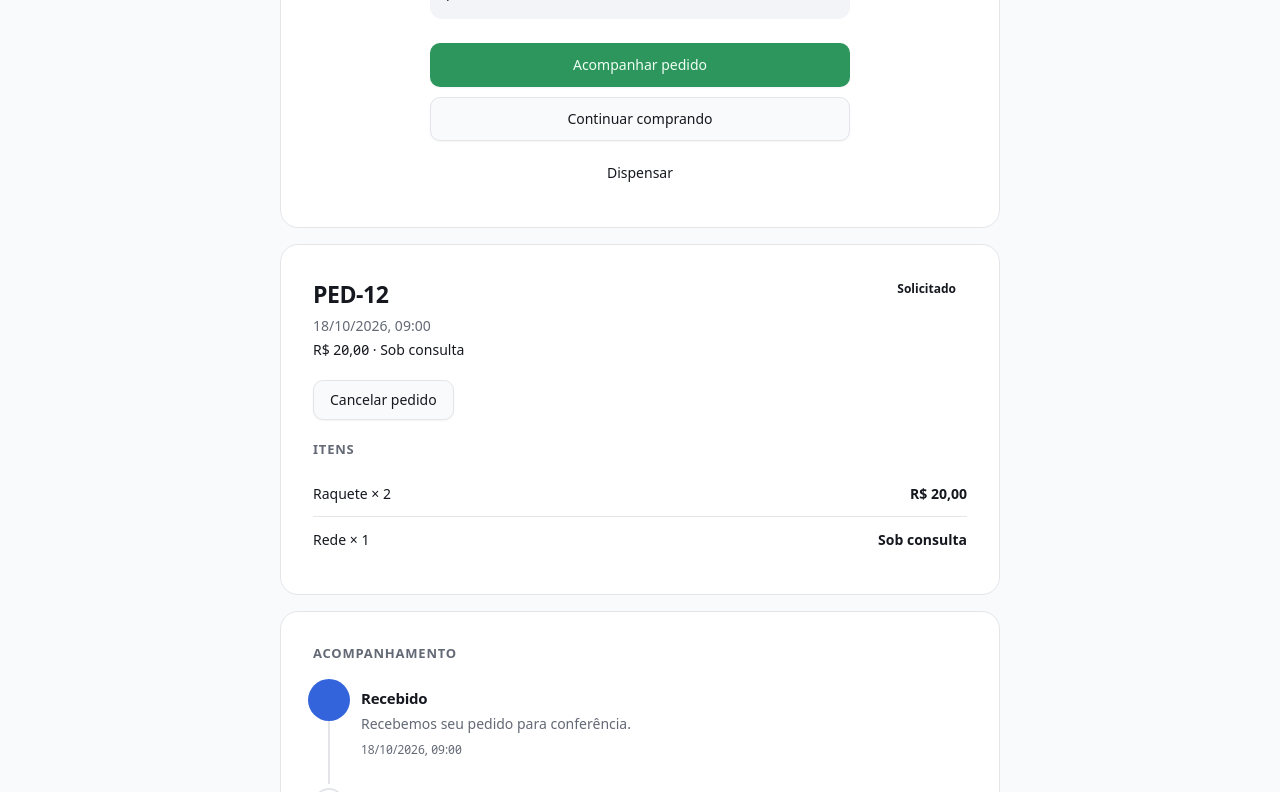
Test: PortalOrderDetailPage › cancels only after confirmation
This screenshot has width=1280, height=792.
(page scrolled)
Click the button "Cancelar pedido": (383,400) [313, 380, 454, 420]
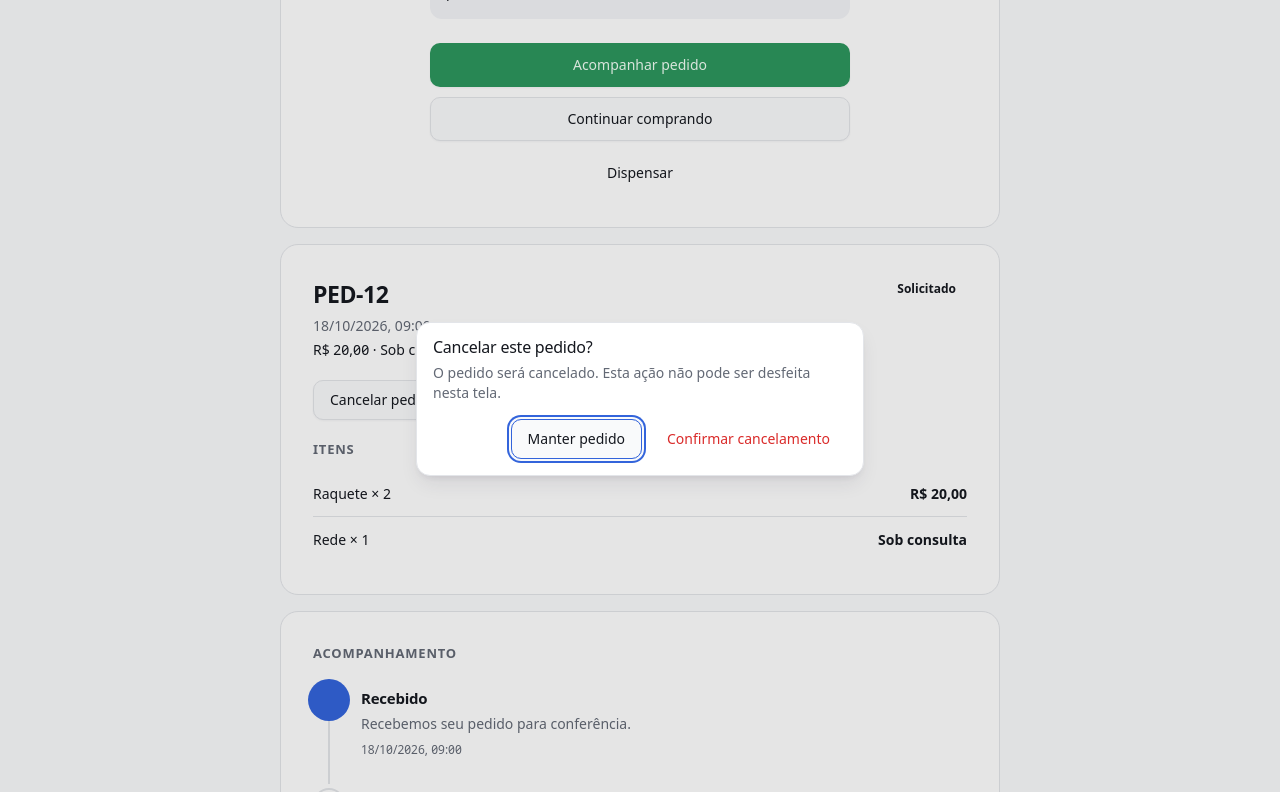
Click the button "Confirmar cancelamento": (748,439) [650, 419, 847, 459]
(page scrolled)
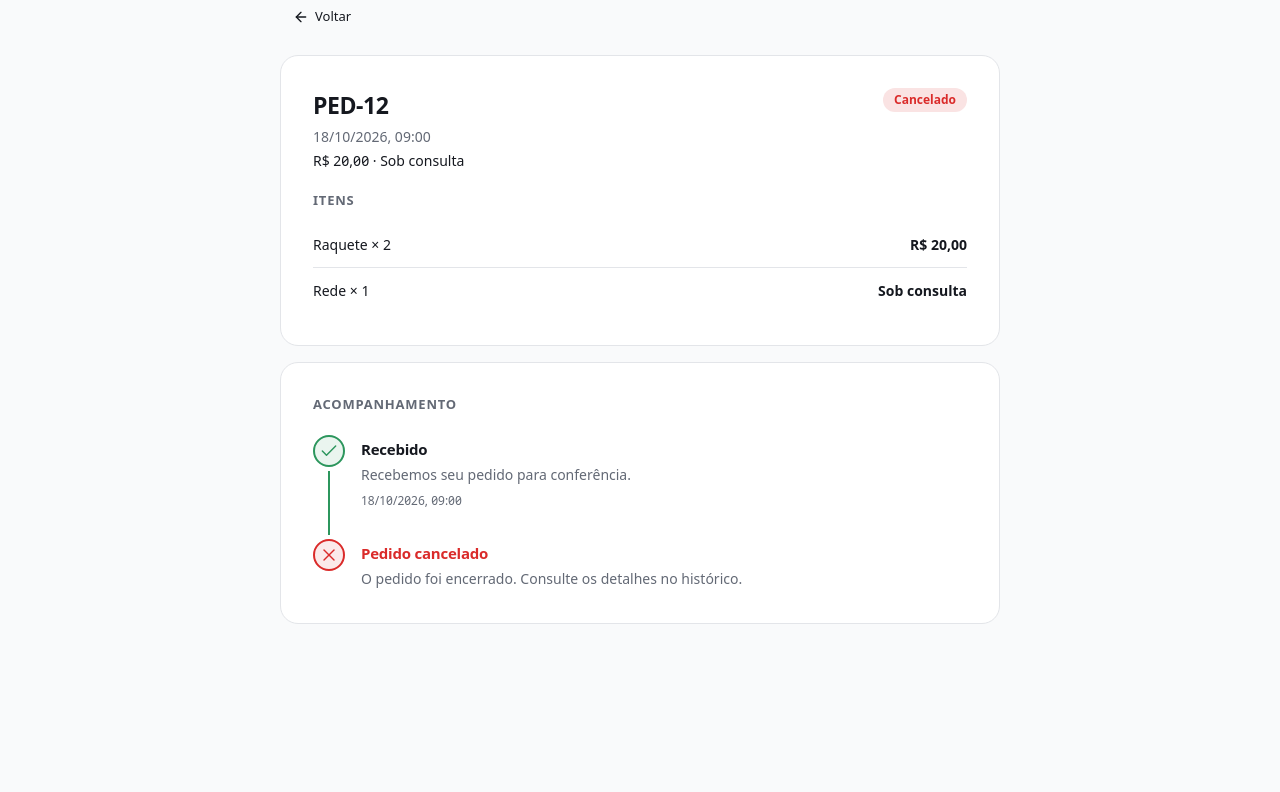
Expected: the text "Cancelado" is shown, [883, 88, 967, 112]
Expected: the button "Cancelar pedido" is gone
